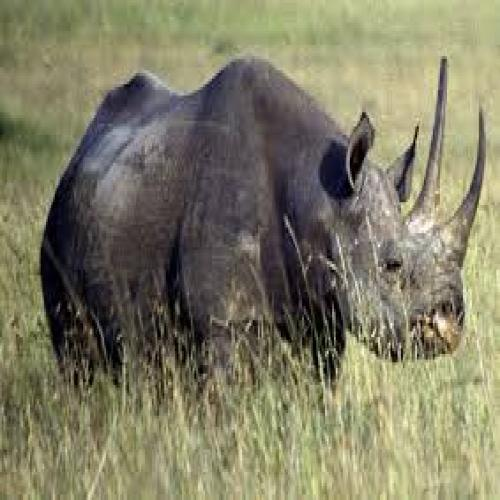rhino-endangered: (40, 55, 487, 397)
